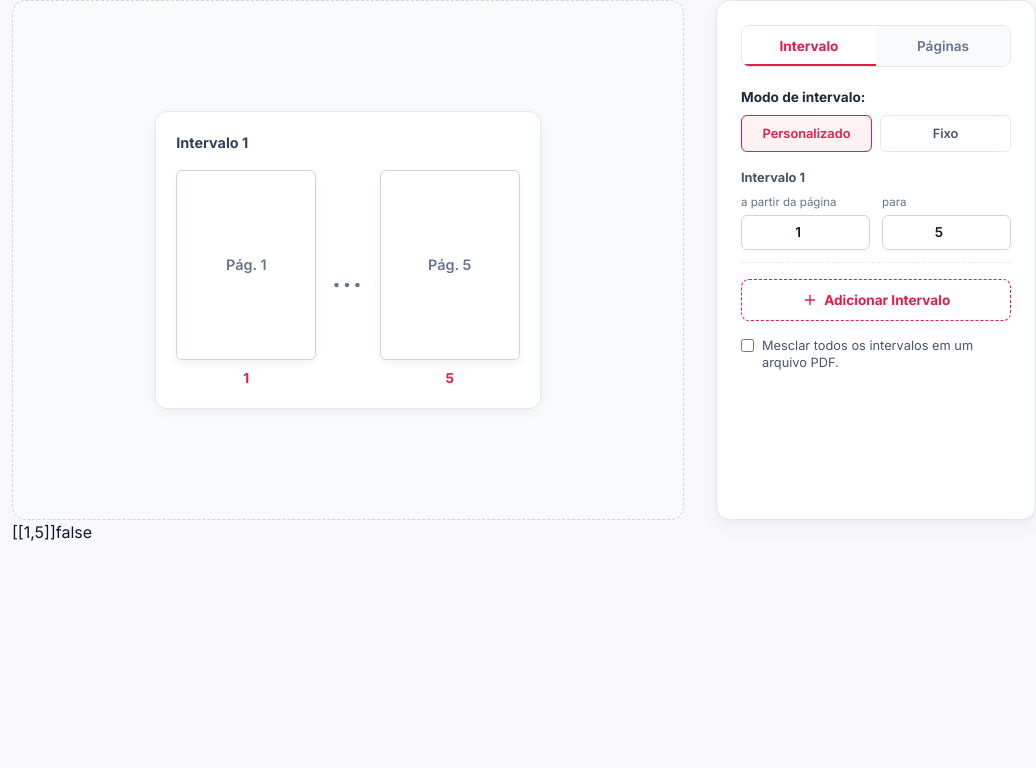
SplitPdfPanel › gera partes de uma página ao ativar o intervalo fixo padrão
The image size is (1036, 768).
Click the button "Fixo" at (946, 134), box [880,115,1011,152]
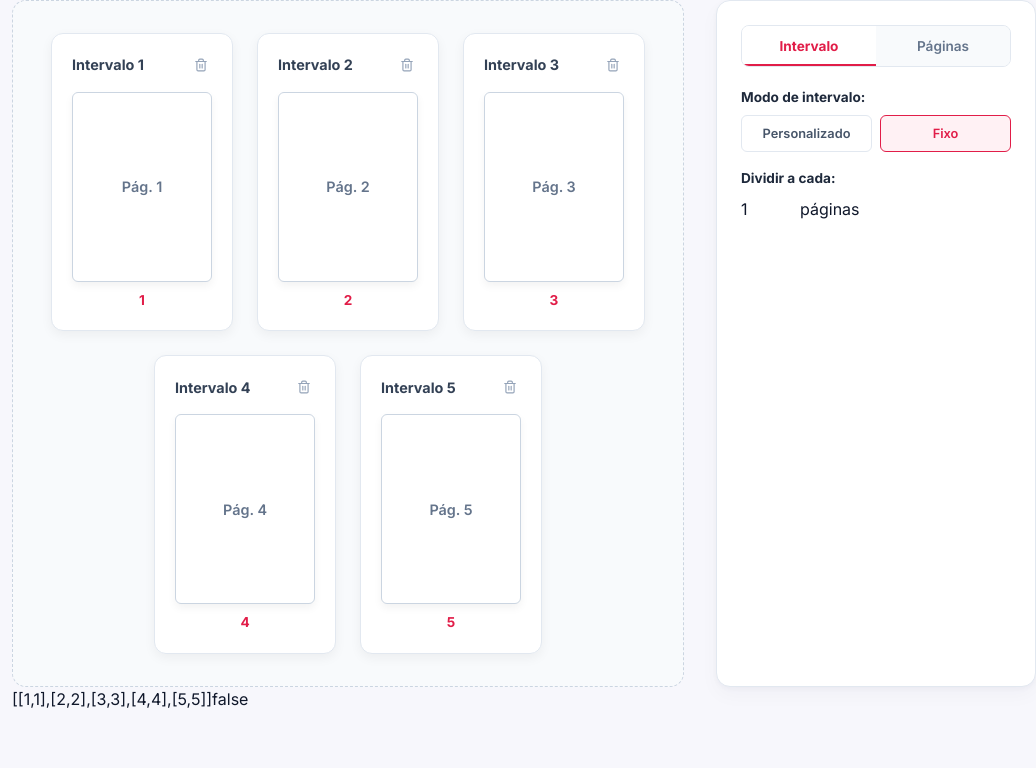
Now the text named "Intervalos de saída" reads "[ [1,1],[2,2],[3,3],[4,4],[5,5]]", box [12,689,212,709]
